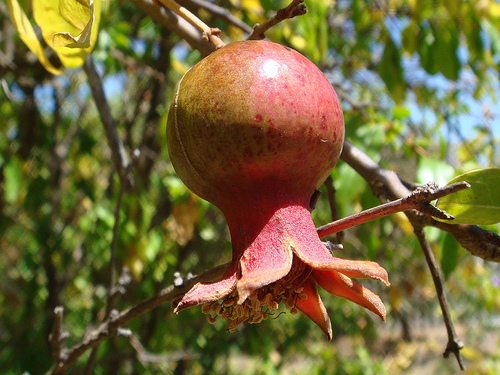pomogranate: (162, 36, 391, 343)
